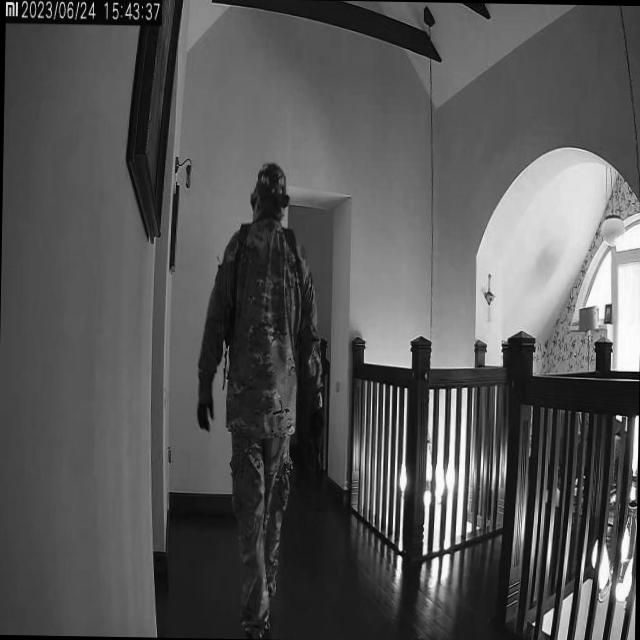person: (192, 156, 330, 636)
